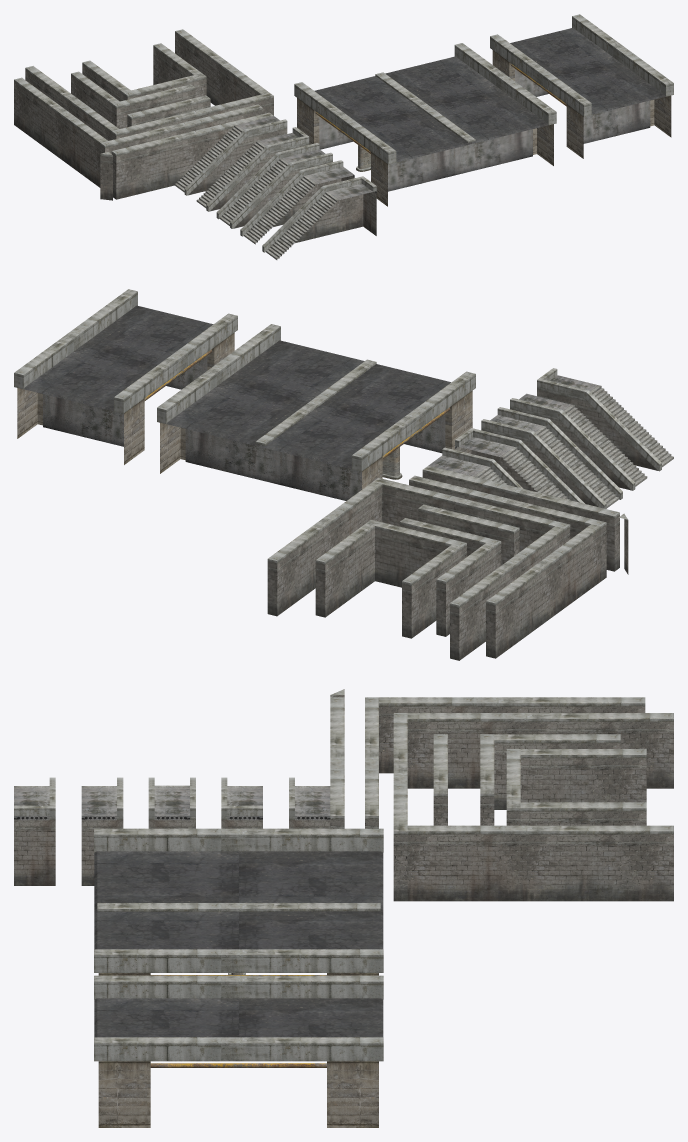
Rendered from UNIFloor_elevation_set_v2.FBX.
The picture shows the model from 3 angles, top to bottom: view 1: azimuth 30°, elevation 25°; view 2: azimuth 150°, elevation 25°; view 3: azimuth 270°, elevation 25°; orthographic projection. The views are drawn at different scales.
Parts seen in each view (by area): view 1: UNI_FES_v2_BR1, UNI_FES_v2_BR2, UNI_FES_v2_W2C, UNI_FES_v2_W2DE, UNI_FES_v2_W2, UNI_FES_v2_S2L, UNI_FES_v2_S3, UNI_FES_v2_S1R, UNI_FES_v2_S1L, UNI_FES_v2_W1DE, UNI_FES_v2_S2R, UNI_FES_v2_W1C (+2 smaller); view 2: UNI_FES_v2_BR1, UNI_FES_v2_BR2, UNI_FES_v2_W2DE, UNI_FES_v2_W2C, UNI_FES_v2_W1DE, UNI_FES_v2_S3, UNI_FES_v2_S2L, UNI_FES_v2_S1L, UNI_FES_v2_W1C, UNI_FES_v2_S2R, UNI_FES_v2_W2, UNI_FES_v2_W1 (+1 smaller); view 3: UNI_FES_v2_BR1, UNI_FES_v2_W2DE, UNI_FES_v2_BR2, UNI_FES_v2_W1DE, UNI_FES_v2_W2C, UNI_FES_v2_S2L, UNI_FES_v2_W1C, UNI_FES_v2_S1L, UNI_FES_v2_S3, UNI_FES_v2_W2, UNI_FES_v2_S2R, UNI_FES_v2_S1R (+1 smaller).
Boxes of the visible parts, <box> form: UNI_FES_v2_BR1: <box>294,43,556,206</box>; UNI_FES_v2_BR2: <box>490,14,673,158</box>; UNI_FES_v2_W2C: <box>14,77,262,187</box>; UNI_FES_v2_W2DE: <box>25,29,273,140</box>; UNI_FES_v2_W2: <box>111,112,273,199</box>; UNI_FES_v2_S2L: <box>262,176,376,259</box>; UNI_FES_v2_S3: <box>216,143,332,228</box>; UNI_FES_v2_S1R: <box>174,116,287,195</box>; UNI_FES_v2_S1L: <box>240,160,354,244</box>; UNI_FES_v2_W1DE: <box>82,43,206,101</box>; UNI_FES_v2_S2R: <box>196,127,309,211</box>; UNI_FES_v2_W1C: <box>71,71,195,128</box>; UNI_FES_v2_BR1: <box>157,324,475,500</box>; UNI_FES_v2_BR2: <box>14,289,237,464</box>; UNI_FES_v2_W2DE: <box>267,478,570,660</box>; UNI_FES_v2_W2C: <box>409,475,606,658</box>; UNI_FES_v2_W1DE: <box>315,519,466,638</box>; UNI_FES_v2_S3: <box>481,407,622,508</box>; UNI_FES_v2_S2L: <box>537,368,673,471</box>; UNI_FES_v2_S1L: <box>510,393,647,490</box>; UNI_FES_v2_W1C: <box>399,518,501,636</box>; UNI_FES_v2_S2R: <box>455,428,584,503</box>; UNI_FES_v2_W2: <box>422,465,619,571</box>; UNI_FES_v2_W1: <box>418,504,519,565</box>; UNI_FES_v2_BR1: <box>94,828,383,975</box>; UNI_FES_v2_W2DE: <box>393,713,673,901</box>; UNI_FES_v2_BR2: <box>94,975,383,1127</box>; UNI_FES_v2_W1DE: <box>506,749,646,825</box>; UNI_FES_v2_W2C: <box>365,697,645,828</box>; UNI_FES_v2_S2L: <box>14,777,55,885</box>; UNI_FES_v2_W1C: <box>480,734,620,825</box>; UNI_FES_v2_S1L: <box>81,777,123,885</box>; UNI_FES_v2_S3: <box>148,777,195,828</box>; UNI_FES_v2_W2: <box>330,697,344,828</box>; UNI_FES_v2_S2R: <box>221,777,262,828</box>; UNI_FES_v2_S1R: <box>289,777,330,828</box>.
Size of the model in its own units: 62.41 by 6.72 by 47.07.
